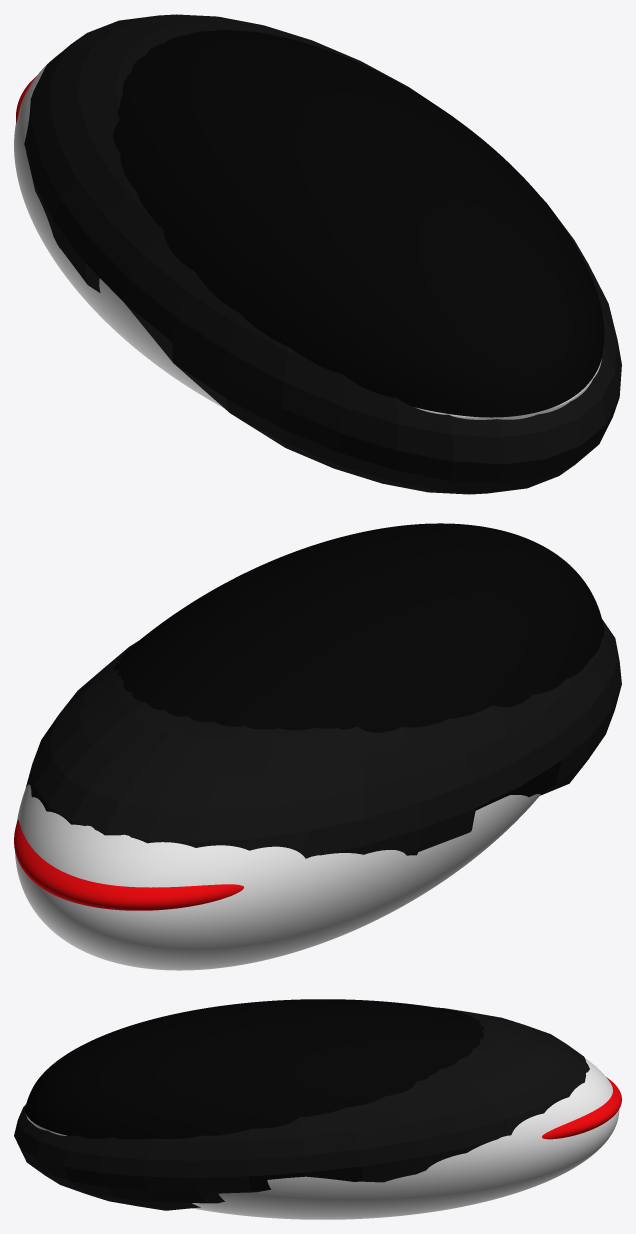
The model's file is ExportedBlenderFBXFile.fbx.
3 renders of one model, top to bottom at view 1: azimuth 30°, elevation 25°; view 2: azimuth 150°, elevation 25°; view 3: azimuth 270°, elevation 25°, orthographic. The views are drawn at different scales.
Visible parts, largest first — view 1: Sphere.001, Sphere.003, Sphere; view 2: Sphere.001, Sphere.003, Sphere, Sphere.002; view 3: Sphere.001, Sphere.003, Sphere, Sphere.002.
Boxes of the visible parts, x1=… form: Sphere.001: x1=113, y1=30, x2=604, y2=417; Sphere.003: x1=24, y1=14, x2=621, y2=494; Sphere: x1=14, y1=53, x2=601, y2=419; Sphere.001: x1=113, y1=523, x2=604, y2=732; Sphere.003: x1=25, y1=619, x2=621, y2=858; Sphere: x1=15, y1=784, x2=540, y2=970; Sphere.002: x1=14, y1=820, x2=243, y2=910; Sphere.001: x1=25, y1=999, x2=484, y2=1139; Sphere.003: x1=14, y1=1007, x2=589, y2=1210; Sphere: x1=26, y1=1058, x2=619, y2=1219; Sphere.002: x1=542, y1=1077, x2=621, y2=1139.
Size of the model in its own units: 2.9 by 2 by 5.91.
